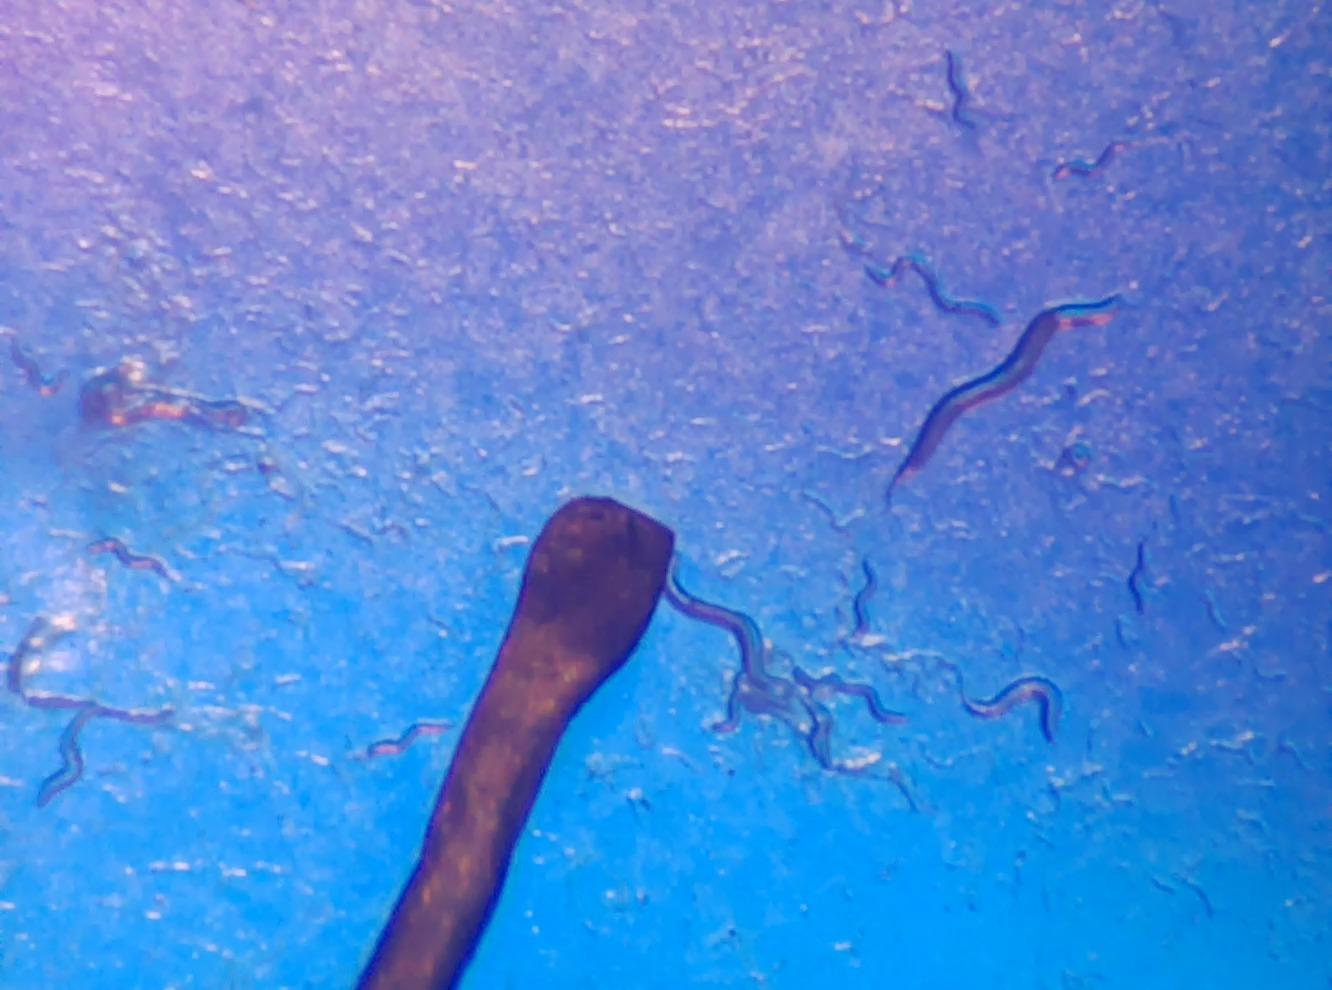pick: (355, 497, 673, 989)
worm: (886, 297, 1118, 500), (963, 677, 1062, 743)
